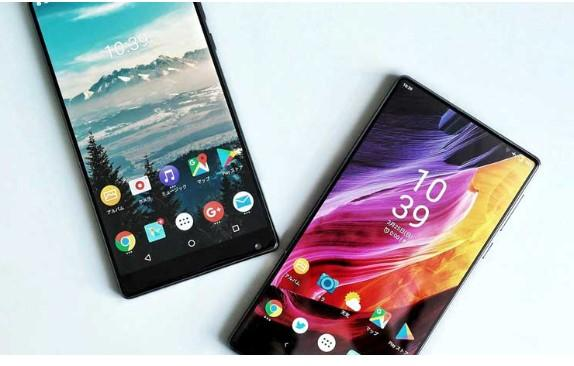Smart Phone: (226, 77, 539, 357), (32, 0, 279, 300)
